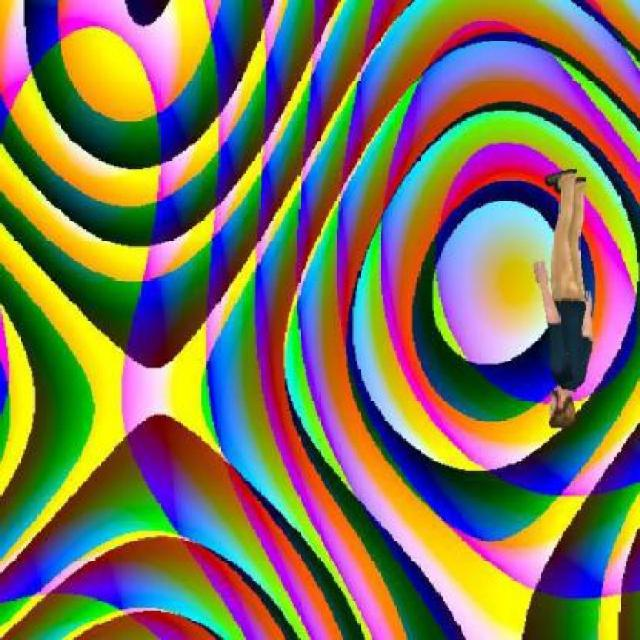Person: (532, 165, 596, 432)
